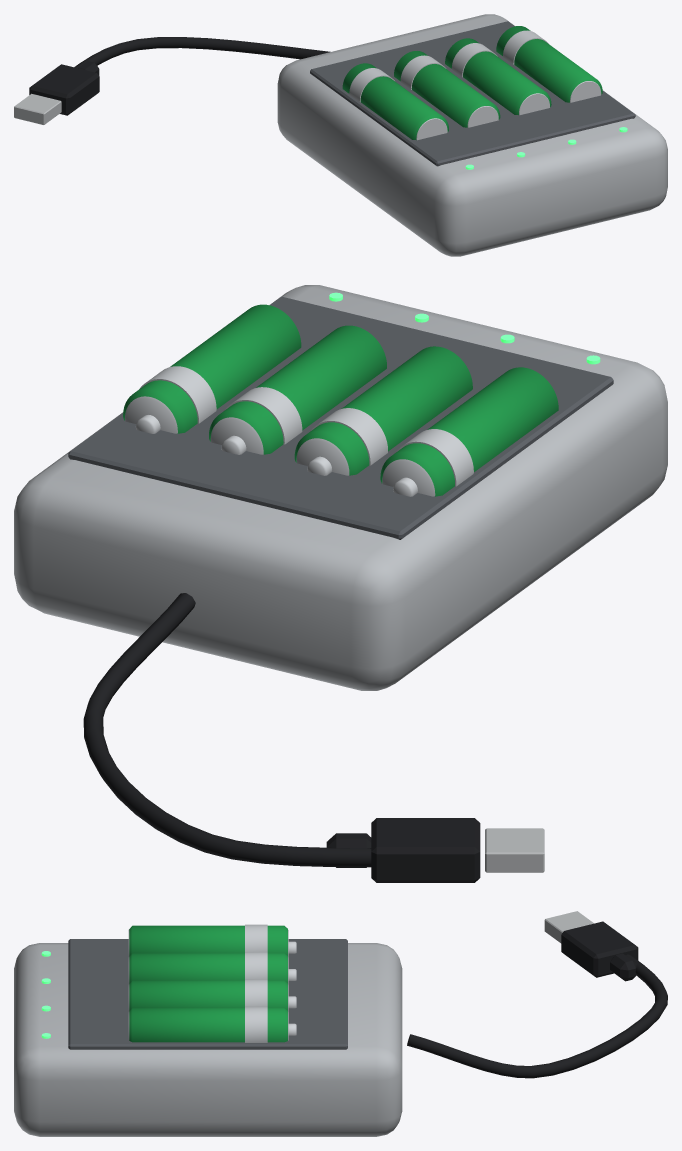
The model's file is battery-charger-dock.glb.
3 views of the same model, one above another, from view 1: azimuth 30°, elevation 25°; view 2: azimuth 150°, elevation 25°; view 3: azimuth 270°, elevation 25° (orthographic). The views are drawn at different scales.
Visible parts, largest first — view 1: Battery_Charger_Dock; view 2: Battery_Charger_Dock; view 3: Battery_Charger_Dock.
Boxes of the visible parts, x1=… form: Battery_Charger_Dock: x1=14, y1=14, x2=667, y2=256; Battery_Charger_Dock: x1=14, y1=285, x2=667, y2=882; Battery_Charger_Dock: x1=14, y1=911, x2=667, y2=1136.
Bounding box in the file's own units: 0.1582 × 0.0395 × 0.2021.
